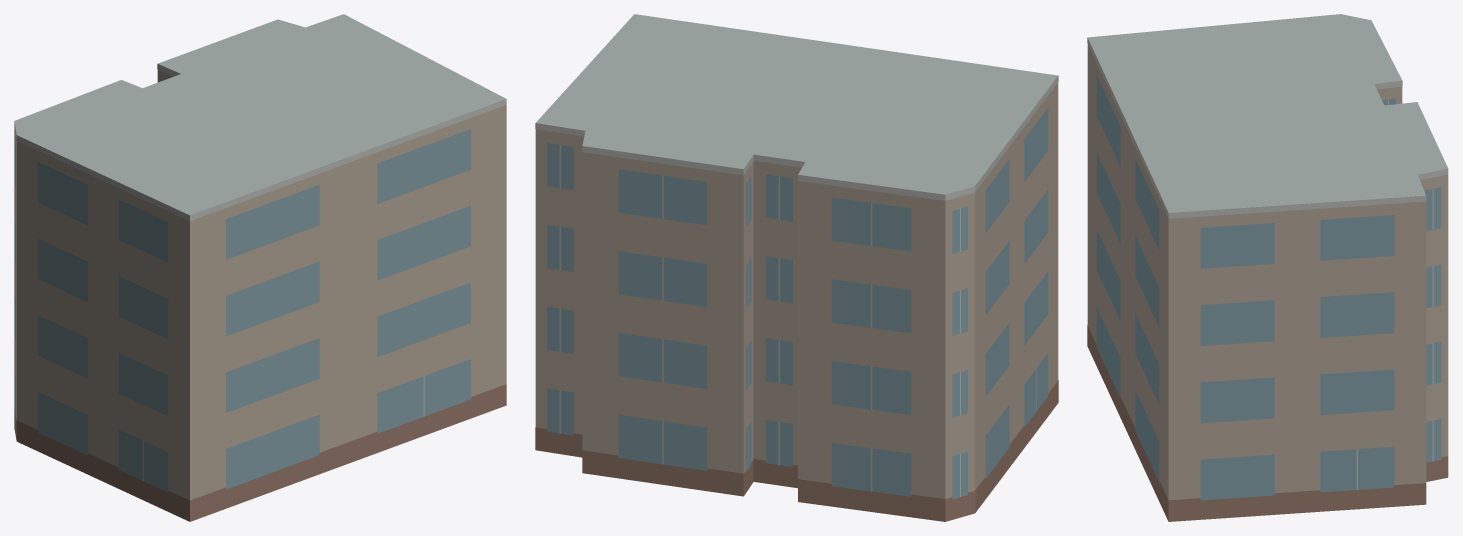
The model's file is survey-upis-32729277.glb.
The picture shows the model from 3 angles, left to right: view 1: azimuth 30°, elevation 25°; view 2: azimuth 150°, elevation 25°; view 3: azimuth 270°, elevation 25°; orthographic projection. The views are drawn at different scales.
Visible parts, largest first — view 1: survey-upis-32729277.tmp; view 2: survey-upis-32729277.tmp; view 3: survey-upis-32729277.tmp.
Boxes of the visible parts, bbox=[...] form: survey-upis-32729277.tmp: bbox=[14, 14, 506, 521]; survey-upis-32729277.tmp: bbox=[535, 14, 1058, 521]; survey-upis-32729277.tmp: bbox=[1087, 14, 1448, 521].
Bounding box in the file's own units: 17.83 × 12.9 × 13.67.
